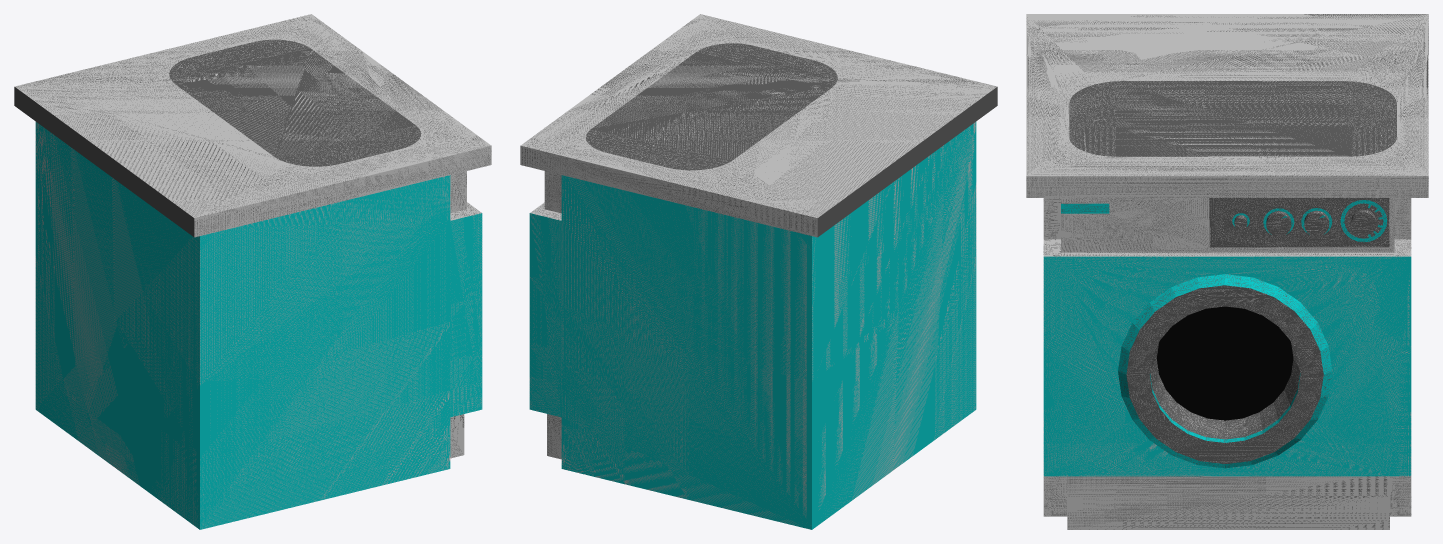
3 renders of one model, left to right at view 1: azimuth 30°, elevation 25°; view 2: azimuth 150°, elevation 25°; view 3: azimuth 270°, elevation 25°, orthographic. The views are drawn at different scales.
Visible parts, largest first — view 1: mesh1_mesh1-geometry; view 2: mesh1_mesh1-geometry; view 3: mesh1_mesh1-geometry.
Part boxes in pixels (box(x1,y1,x2,y2)): mesh1_mesh1-geometry: box(14, 14, 491, 529); mesh1_mesh1-geometry: box(520, 14, 997, 529); mesh1_mesh1-geometry: box(1026, 14, 1428, 529).
Size of the model in its own units: 0.5684 by 0.5768 by 0.5867.
